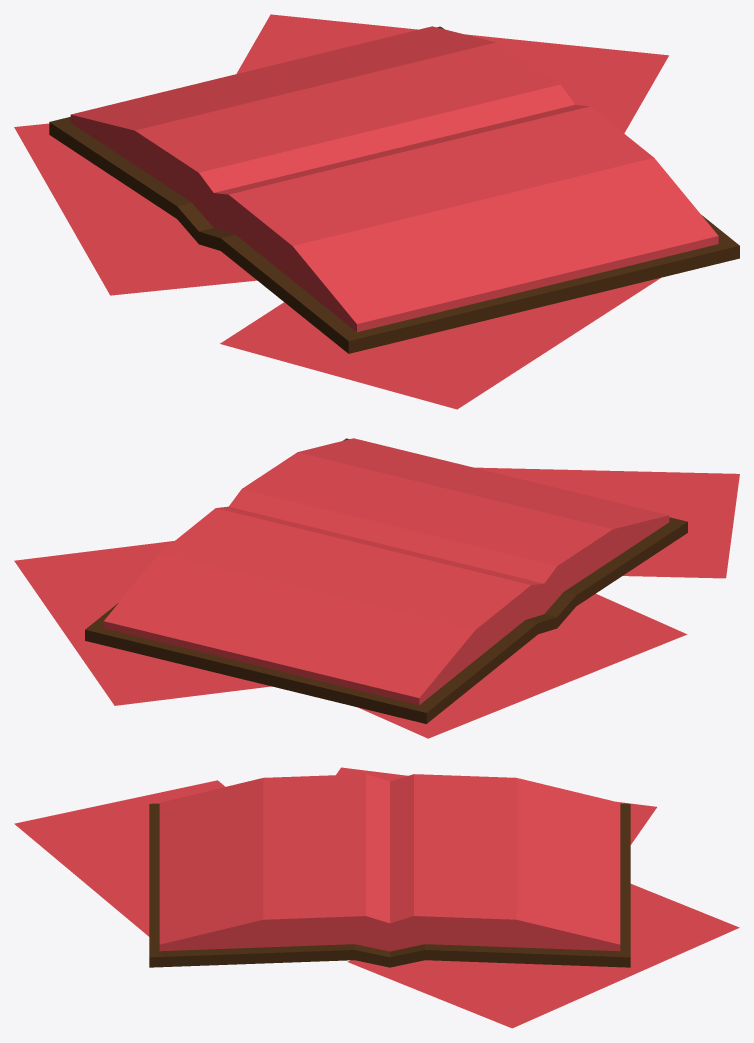
The model's file is book.fbx.
3 views of the same model, one above another, from view 1: azimuth 30°, elevation 25°; view 2: azimuth 150°, elevation 25°; view 3: azimuth 270°, elevation 25° (orthographic). The views are drawn at different scales.
Visible parts, largest first — view 1: Book; view 2: Book; view 3: Book.
Part boxes in pixels (<box>): Book: <box>14,14,739,409</box>; Book: <box>14,438,739,738</box>; Book: <box>14,767,739,1028</box>.
Size of the model in its own units: 128 by 10.5 by 151.
